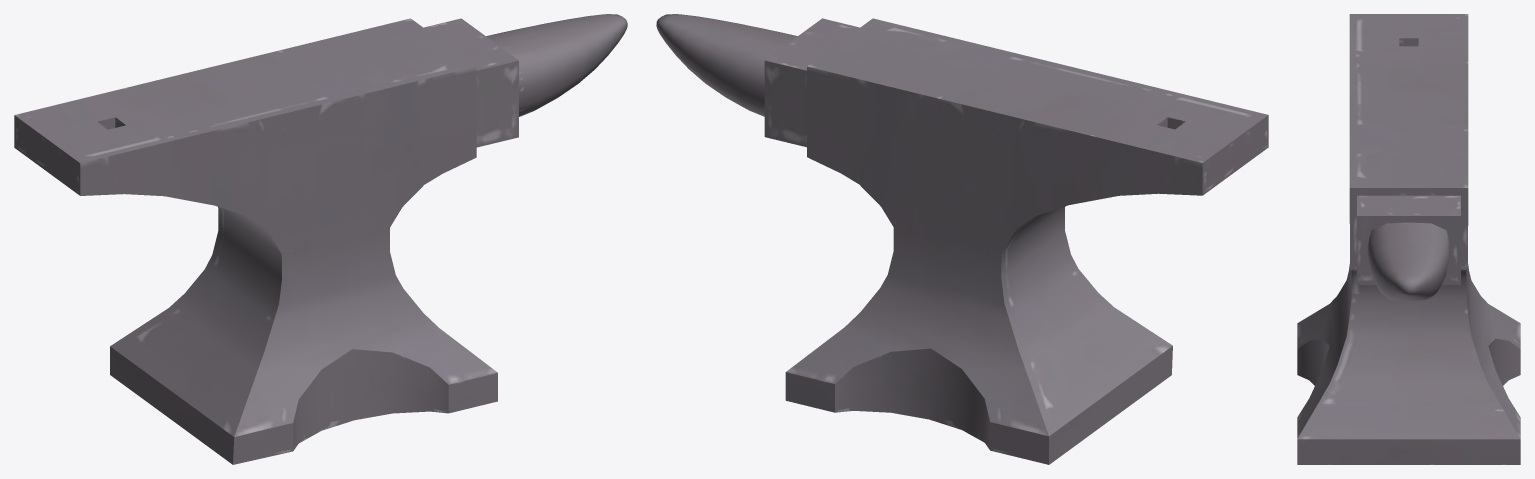
Rendered from anvil.glb.
3 views of the same model, side by side, from view 1: azimuth 30°, elevation 25°; view 2: azimuth 150°, elevation 25°; view 3: azimuth 270°, elevation 25° (orthographic). The views are drawn at different scales.
Parts seen in each view (by area): view 1: Anvil; view 2: Anvil; view 3: Anvil.
Boxes of the visible parts, x1,y1,x2,y2 form: Anvil: (14,14,627,464); Anvil: (656,14,1268,464); Anvil: (1297,14,1520,464).
Size of the model in its own units: 1.08 by 0.5561 by 0.4015.
1 material, 1 textured.
